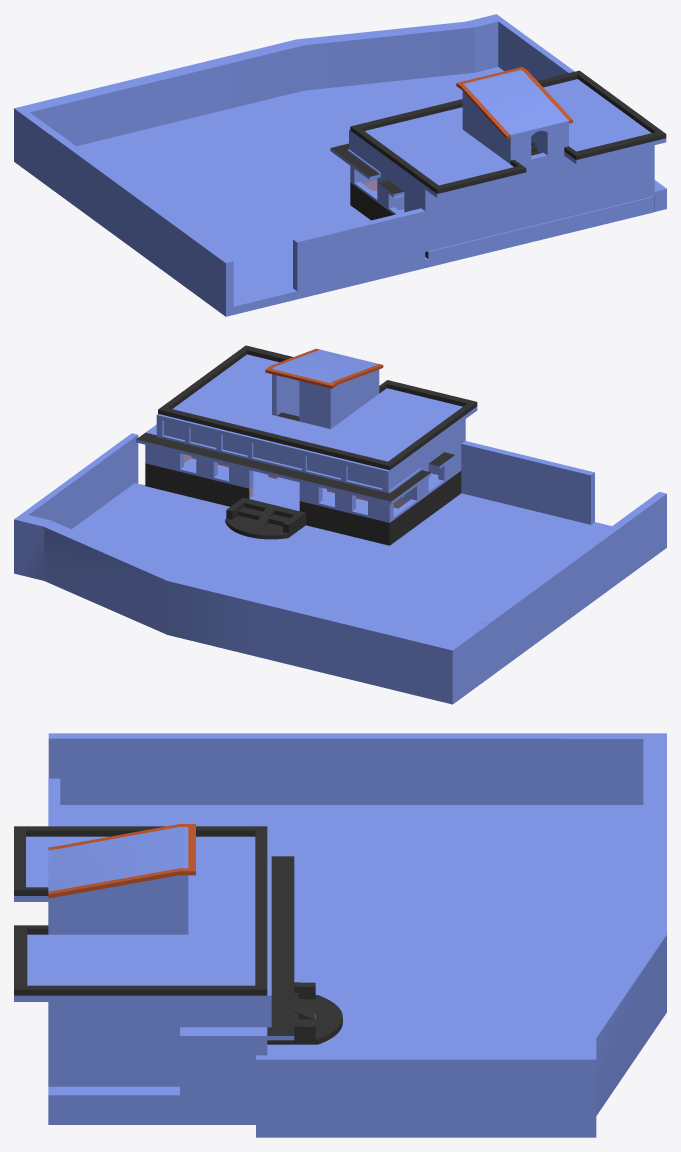
The model's file is villa.obj.
3 renders of one model, top to bottom at view 1: azimuth 30°, elevation 25°; view 2: azimuth 150°, elevation 25°; view 3: azimuth 270°, elevation 25°, orthographic. The views are drawn at different scales.
Parts seen in each view (by area): view 1: Cube; view 2: Cube; view 3: Cube.
Boxes of the visible parts, x1,y1,x2,y2 form: Cube: (14, 14, 666, 316); Cube: (14, 345, 666, 704); Cube: (14, 733, 666, 1137).
Size of the model in its own units: 21.07 by 5.64 by 17.81.
